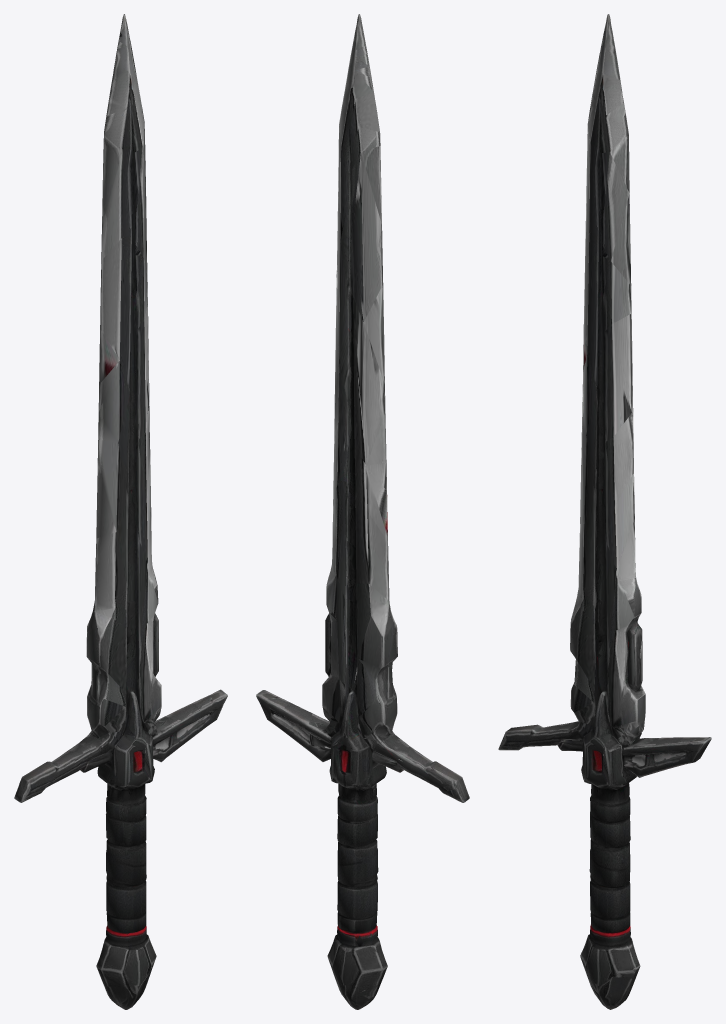
The model's file is SwordShadow_Phase4.glb.
The picture shows the model from 3 angles, left to right: view 1: azimuth 30°, elevation 25°; view 2: azimuth 150°, elevation 25°; view 3: azimuth 330°, elevation 25°; orthographic projection.
Parts seen in each view (by area): view 1: SwordShadow_Phase4; view 2: SwordShadow_Phase4; view 3: SwordShadow_Phase4.
Boxes of the visible parts, x1,y1,x2,y2 form: SwordShadow_Phase4: (14,14,227,1009); SwordShadow_Phase4: (256,14,469,1009); SwordShadow_Phase4: (498,14,711,1009).
Bounding box in the file's own units: 1.04 × 4.75 × 0.2226.
Materials: 1 (1 with a texture image).
